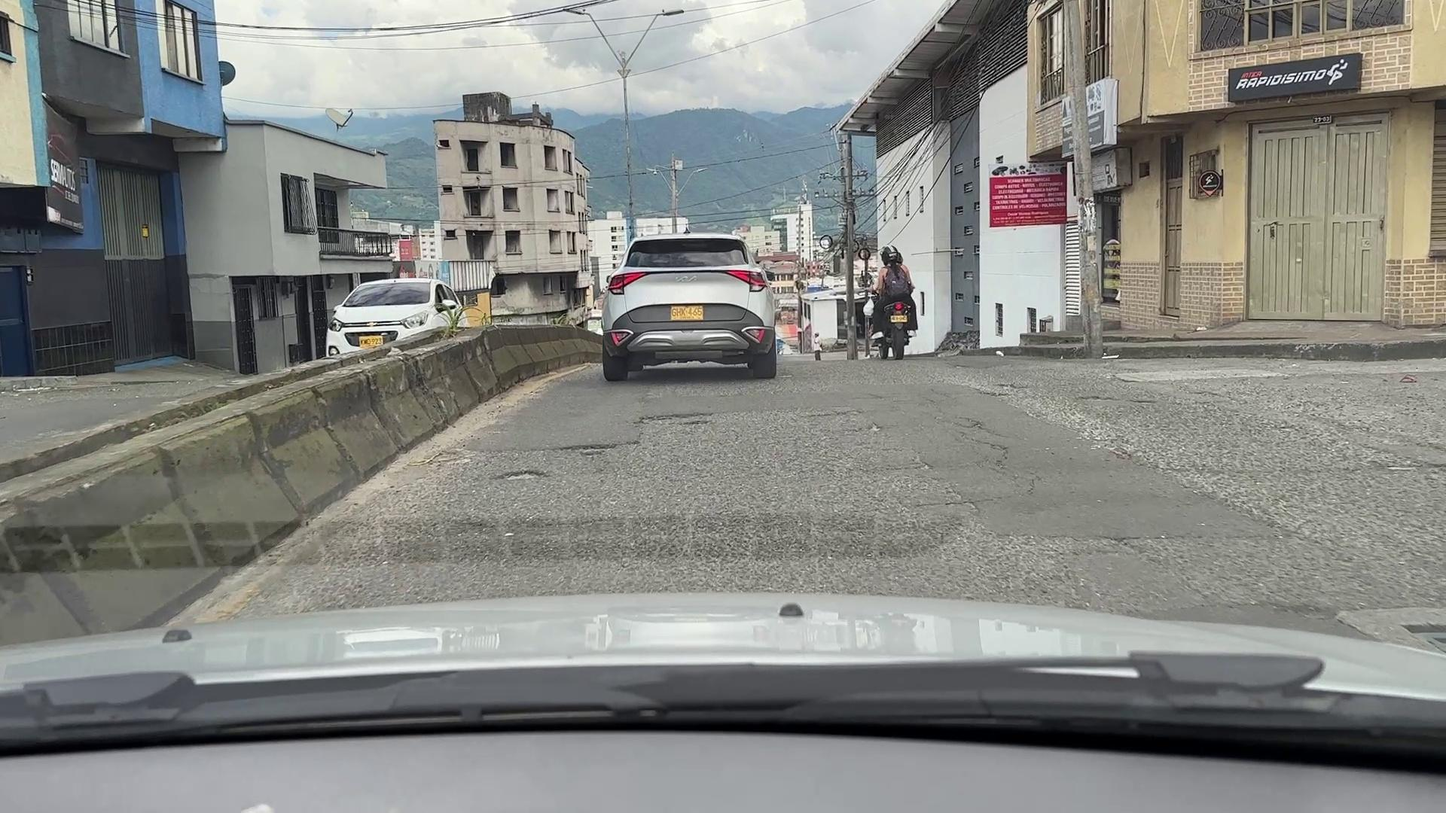bache: (641, 413, 713, 420), (504, 471, 545, 480), (562, 444, 616, 450), (582, 451, 600, 456)
